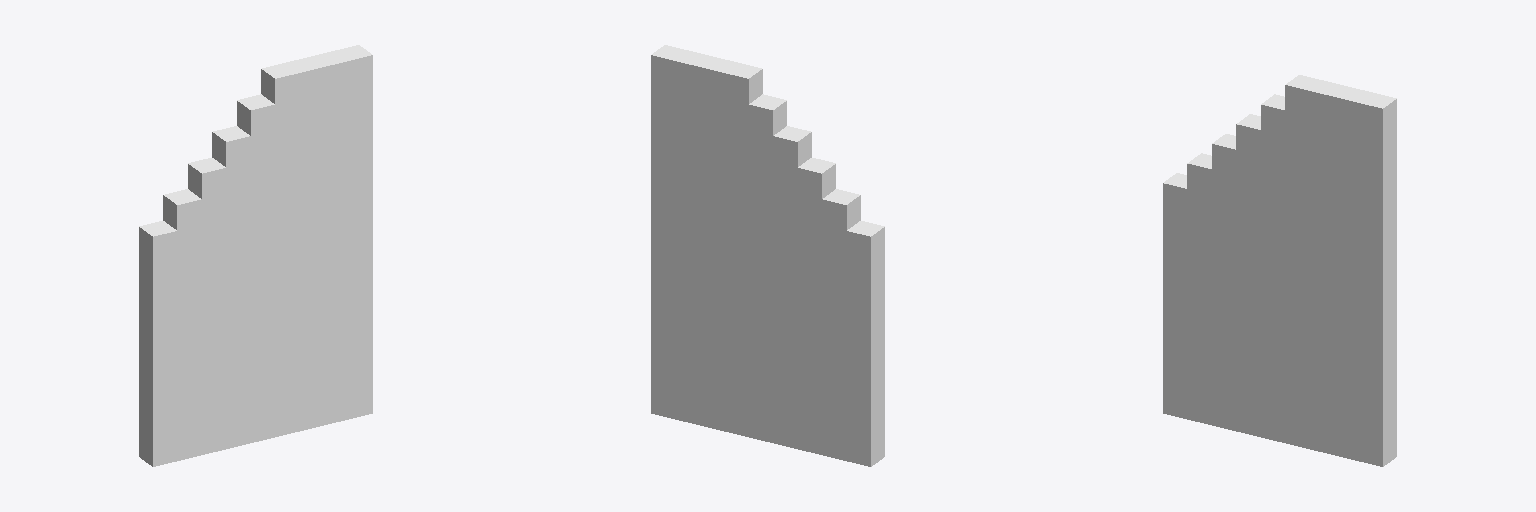
File: PlayerEye75.obj
3 renders of one model, left to right at view 1: azimuth 30°, elevation 25°; view 2: azimuth 150°, elevation 25°; view 3: azimuth 330°, elevation 25°, orthographic.
Size of the model in its own units: 9 by 14 by 1.